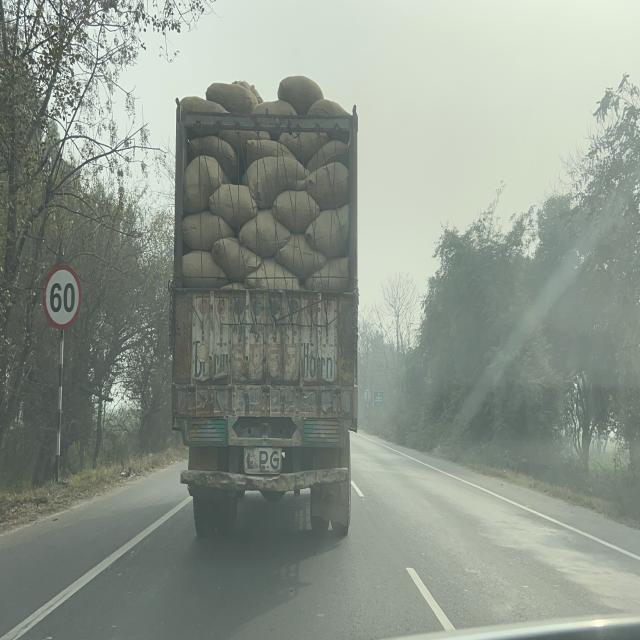SPEED_LIMIT_60: (44, 264, 80, 329)
